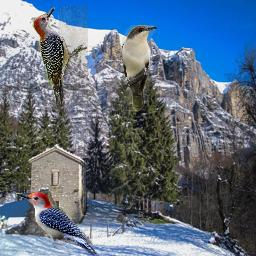Cuckoo: (121, 25, 158, 112)
Woodpecker: (30, 6, 88, 105), (16, 192, 97, 255)
